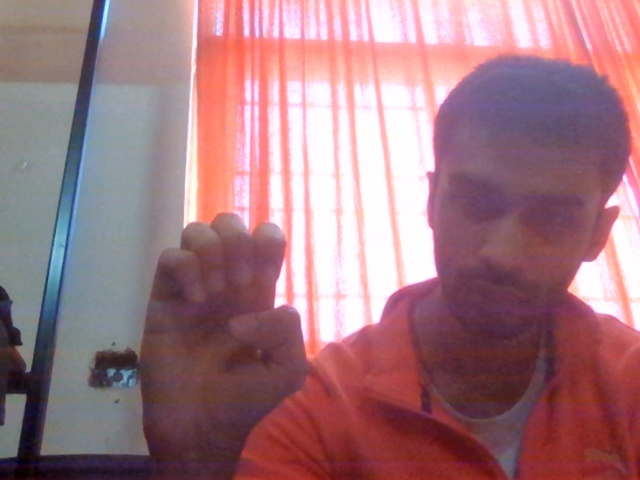E: (122, 178, 333, 480)
